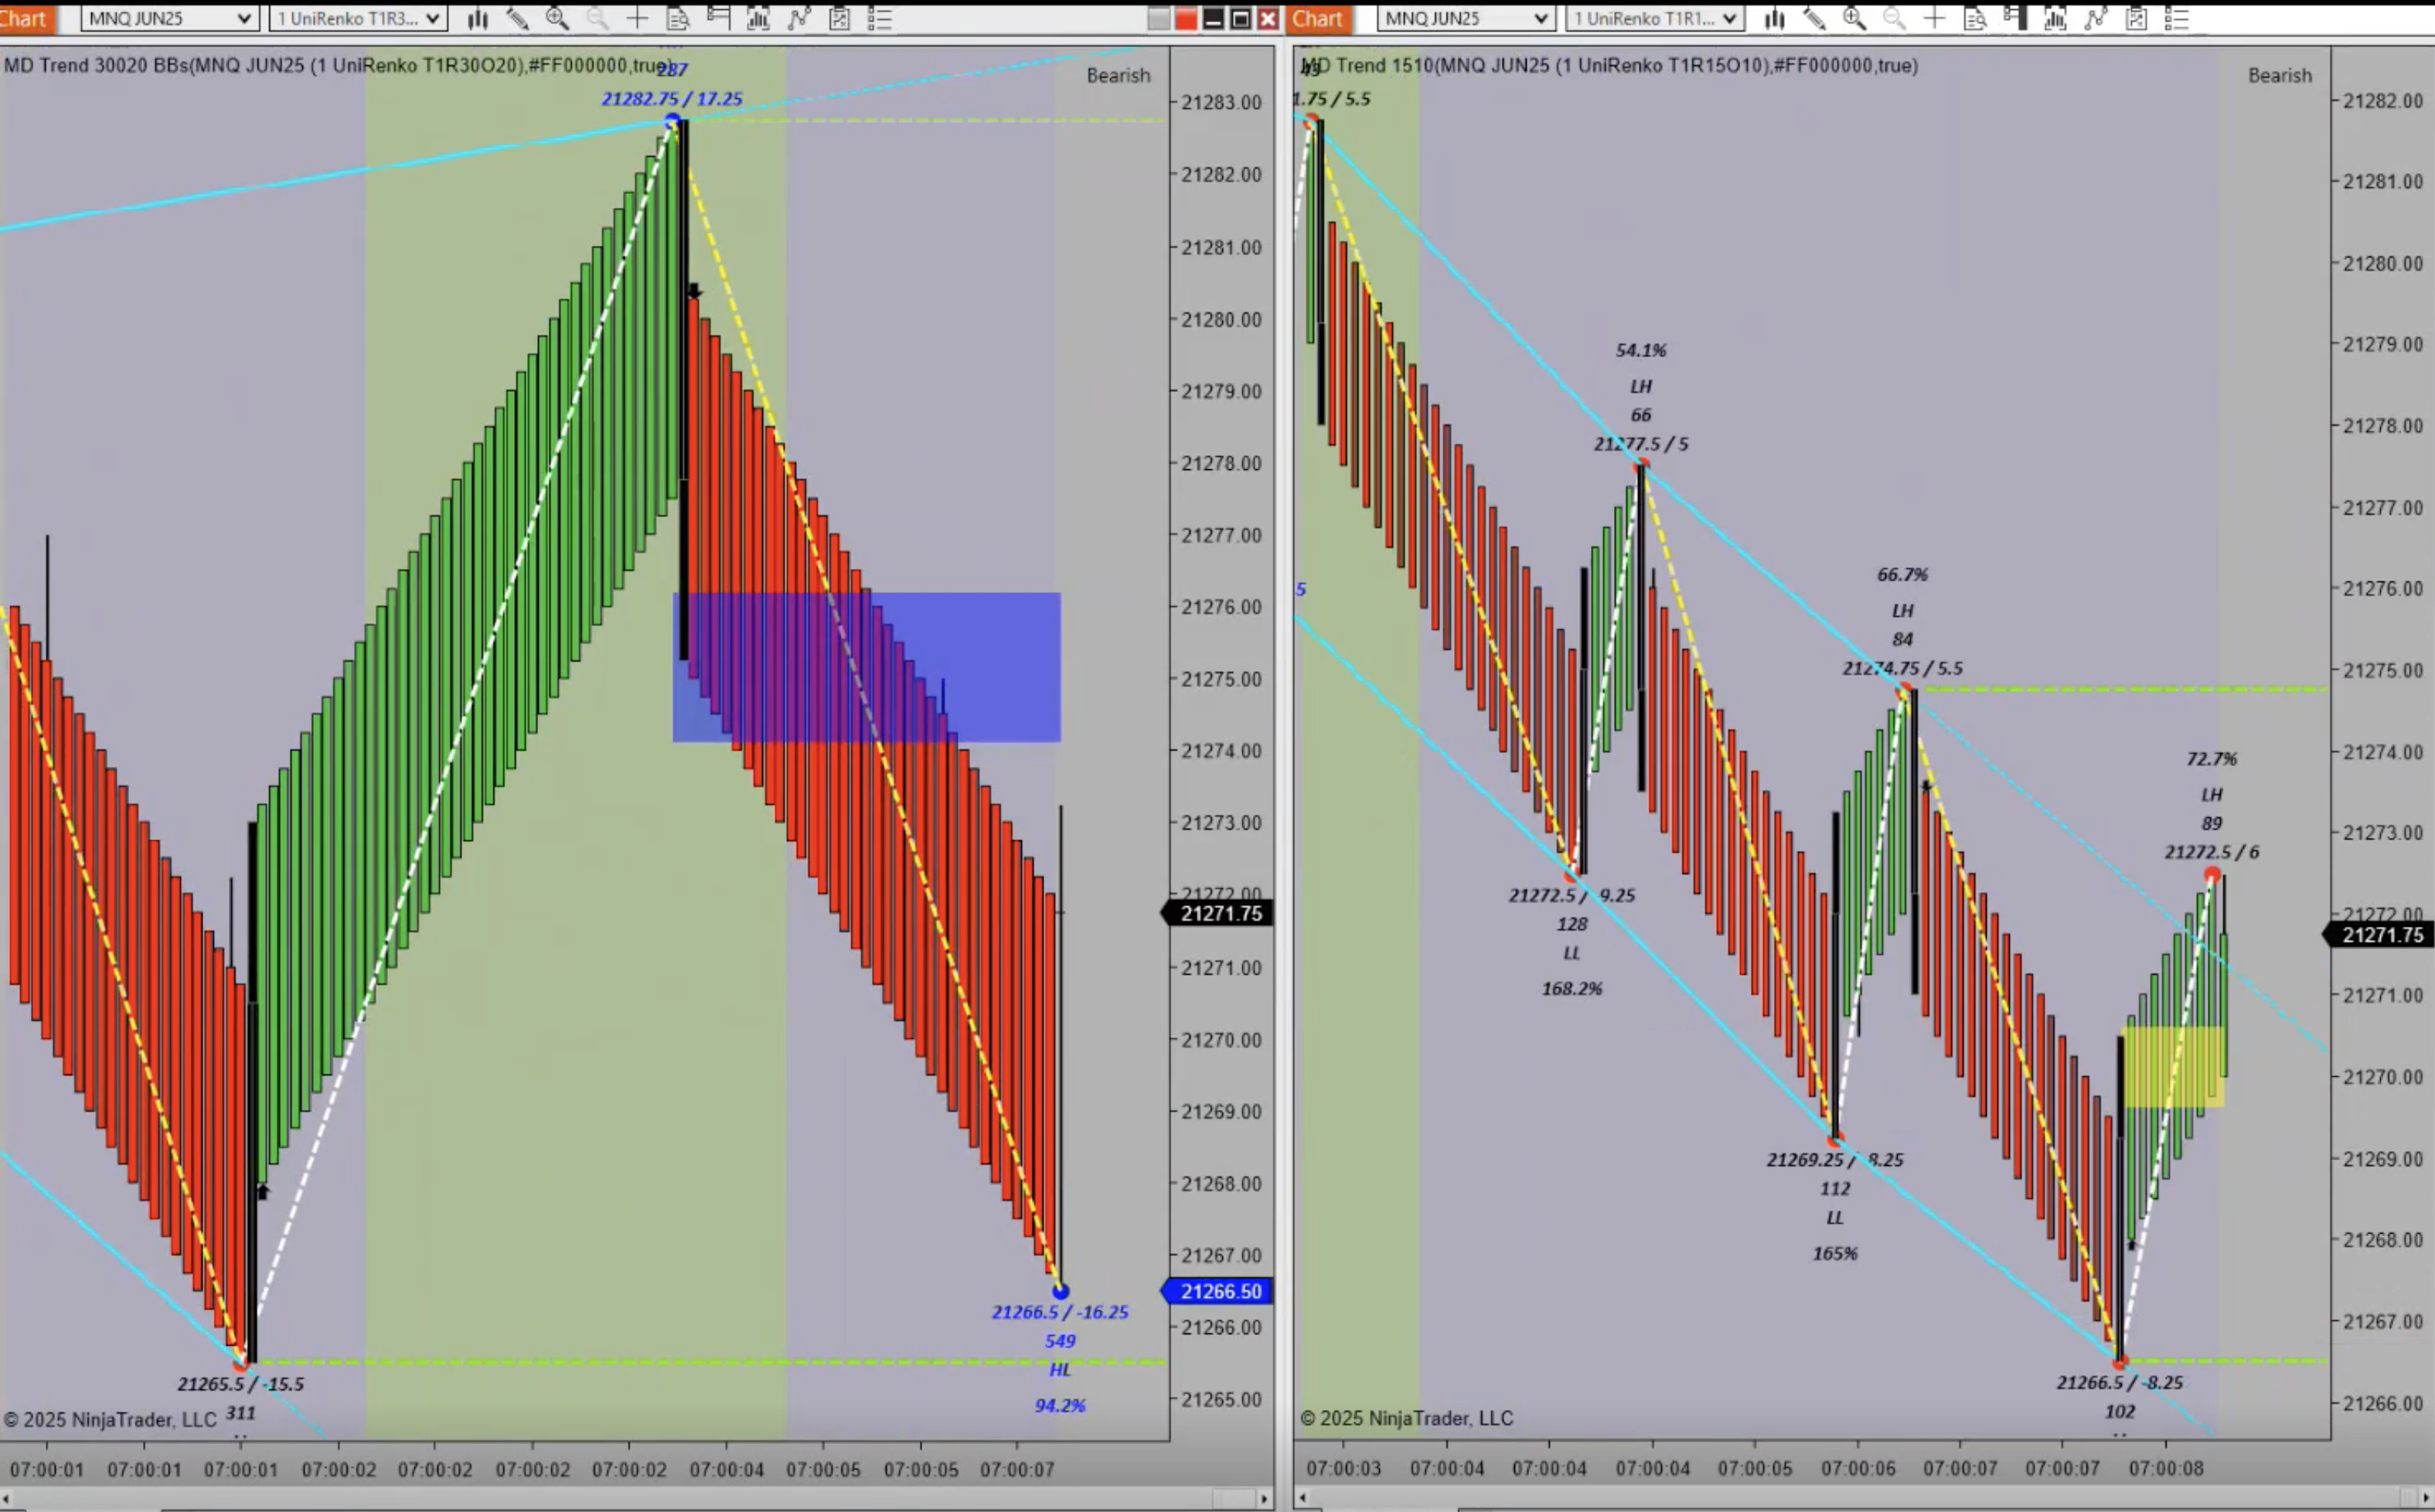candle: (244, 824, 265, 1353), (678, 124, 693, 669), (1907, 685, 1926, 1002), (1576, 568, 1595, 876), (2113, 1033, 2130, 1352), (1832, 808, 1845, 1136), (1315, 113, 1327, 429), (1639, 462, 1648, 796)
